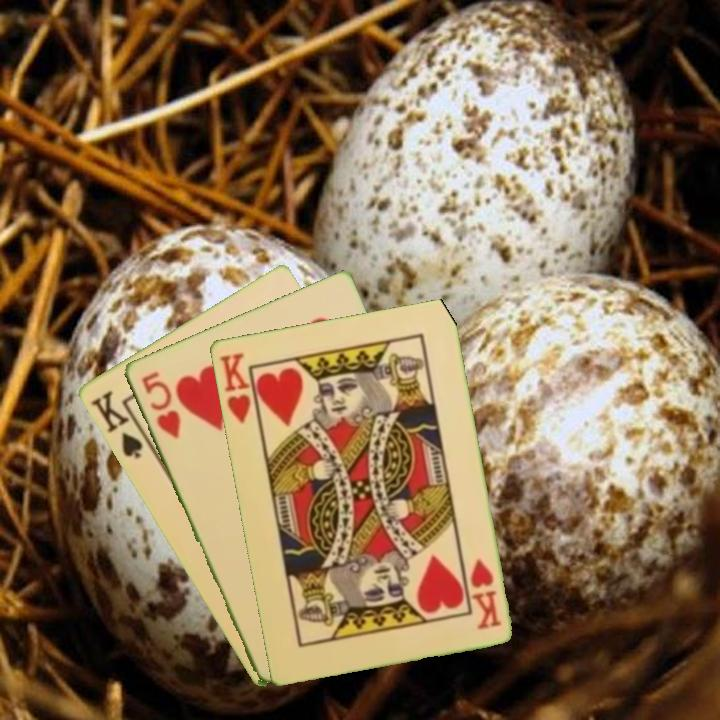5h: (137, 368, 184, 441)
Kh: (216, 349, 262, 428), (466, 554, 504, 632)
Ks: (86, 386, 154, 462)
